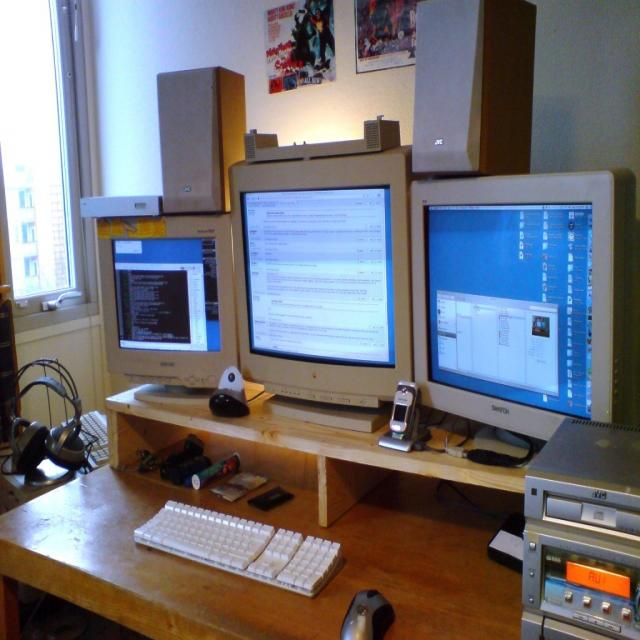desk: (0, 382, 522, 639)
keyboard: (134, 497, 345, 598)
mouse: (340, 589, 396, 640)
tv: (408, 172, 633, 444), (229, 148, 414, 412), (98, 227, 240, 391)
